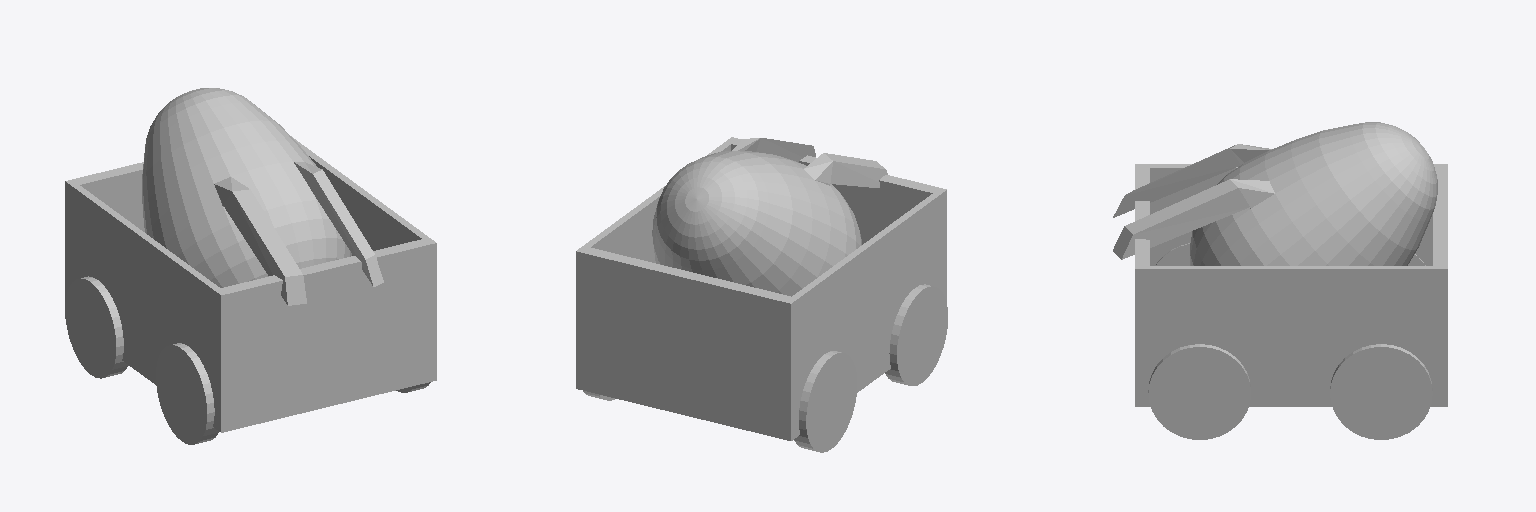
The model's file is barba.obj.
The picture shows the model from 3 angles: view 1: azimuth 30°, elevation 25°; view 2: azimuth 150°, elevation 25°; view 3: azimuth 270°, elevation 25°; orthographic projection.
Visible parts, largest first — view 1: Sphere; view 2: Sphere; view 3: Sphere.
Boxes of the visible parts, x1=… form: Sphere: x1=65, y1=88, x2=436, y2=444; Sphere: x1=576, y1=137, x2=947, y2=452; Sphere: x1=1113, y1=122, x2=1447, y2=439.
Bounding box in the file's own units: 2.6 × 2.77 × 3.29.